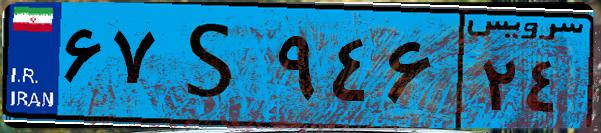2: (475, 38, 525, 113)
4: (330, 28, 385, 110), (525, 38, 570, 115)
6: (385, 28, 445, 110), (57, 26, 110, 100)
7: (110, 28, 158, 98)
9: (270, 28, 330, 110)
S: (158, 12, 270, 120)
